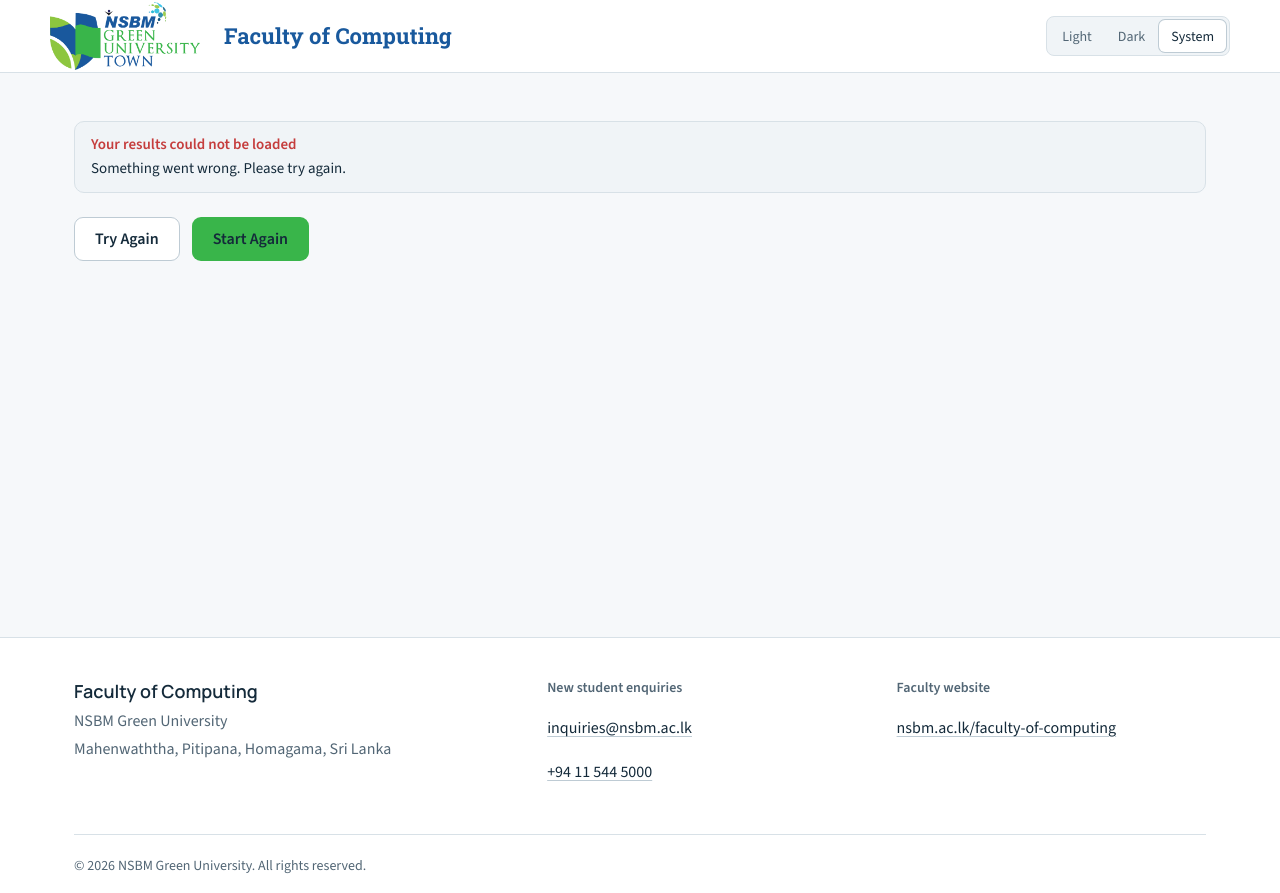
results › offers a retry when the recommendation request fails
The image size is (1280, 893).
Expected: the message shows "Your results could not be loaded", x1=91 y1=134 x2=296 y2=154
Click the button "Try Again": click(127, 238) x1=74 y1=216 x2=180 y2=260
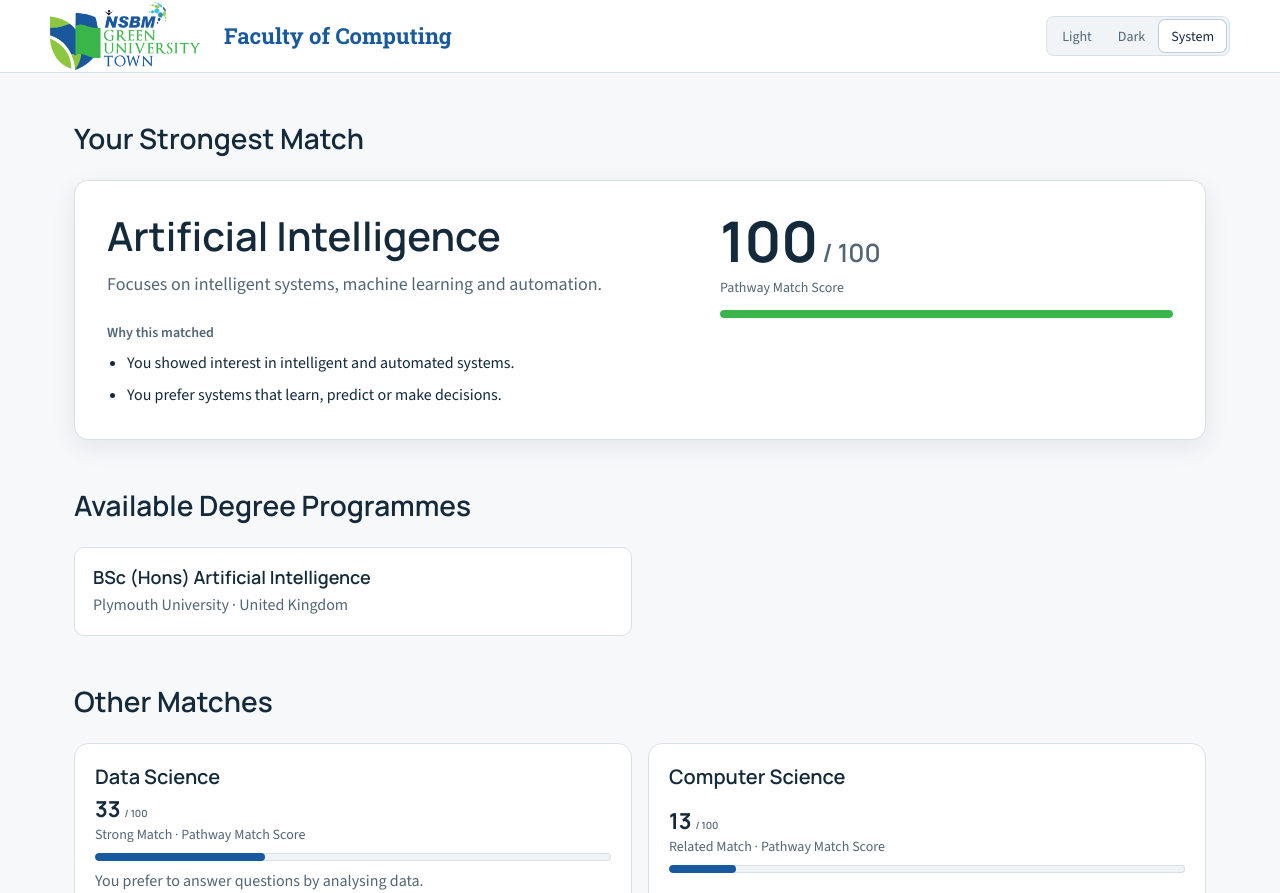
Result: the heading "Your Strongest Match" is shown at x1=74 y1=119 x2=364 y2=157
